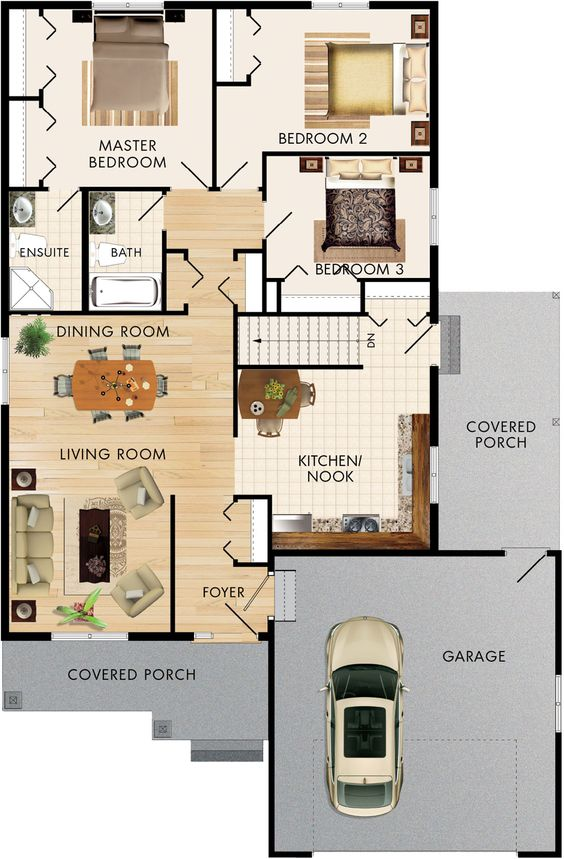room: (1, 311, 175, 641), (2, 1, 216, 192), (234, 367, 439, 556), (213, 2, 439, 155), (260, 151, 439, 282)
